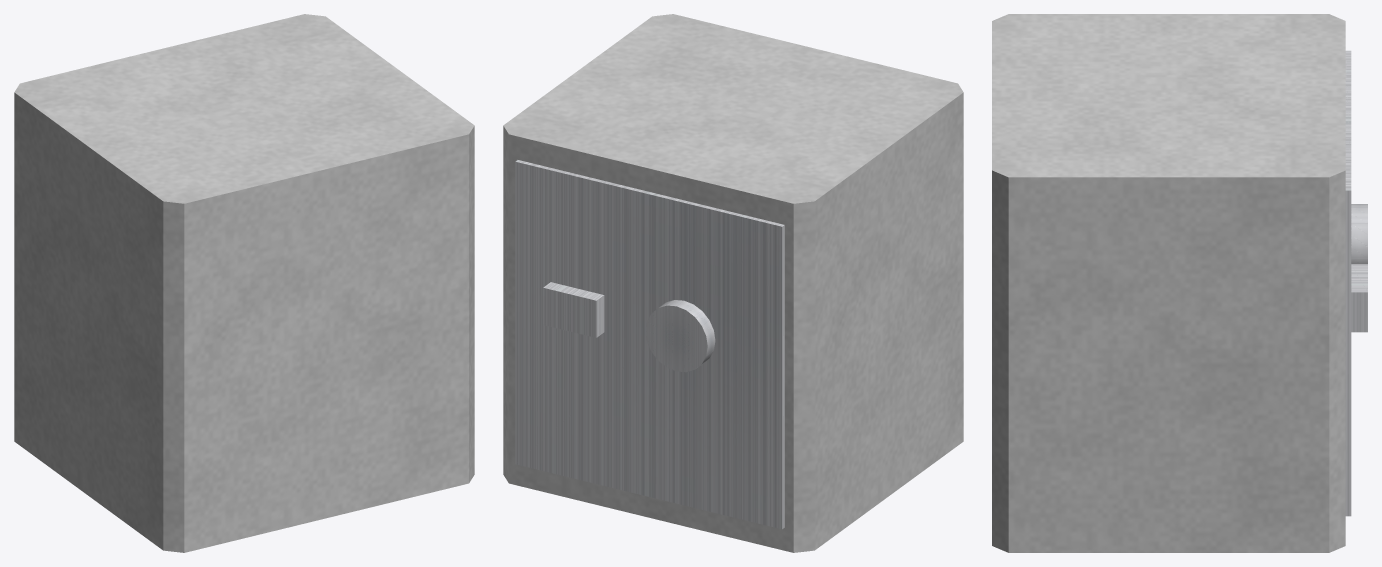
Rendered from safe.obj.
3 views of the same model, side by side, from view 1: azimuth 30°, elevation 25°; view 2: azimuth 150°, elevation 25°; view 3: azimuth 270°, elevation 25° (orthographic). The views are drawn at different scales.
Parts seen in each view (by area): view 1: safe; view 2: safe; view 3: safe.
Part boxes in pixels (bbox=[...]): safe: bbox=[14, 14, 474, 552]; safe: bbox=[503, 14, 963, 552]; safe: bbox=[992, 14, 1367, 552].
Size of the model in its own units: 0.7 by 0.75 by 0.68.
3 materials, 3 textured.
